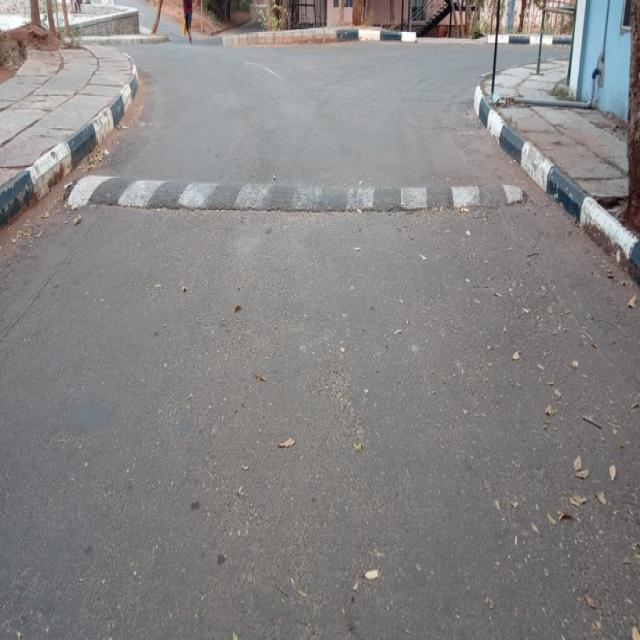speedbreaker: (78, 163, 530, 221)
